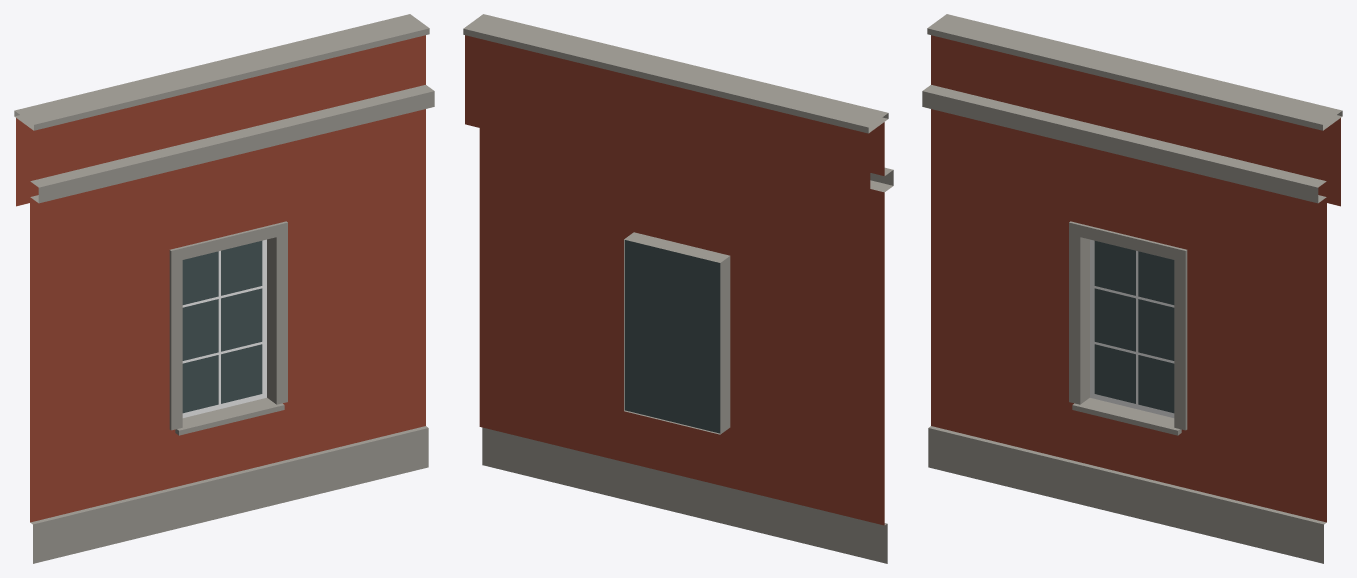
The picture shows the model from 3 angles, left to right: view 1: azimuth 30°, elevation 25°; view 2: azimuth 150°, elevation 25°; view 3: azimuth 330°, elevation 25°; orthographic projection. The views are drawn at different scales.
Parts seen in each view (by area): view 1: a2003/700/base-w2; view 2: a2003/700/base-w2; view 3: a2003/700/base-w2.
Part boxes in pixels (x1,y1,x2,y2): a2003/700/base-w2: [14, 14, 434, 563]; a2003/700/base-w2: [463, 14, 893, 563]; a2003/700/base-w2: [922, 14, 1342, 563].
Size of the model in its own units: 4.2 by 4.46 by 0.45.
